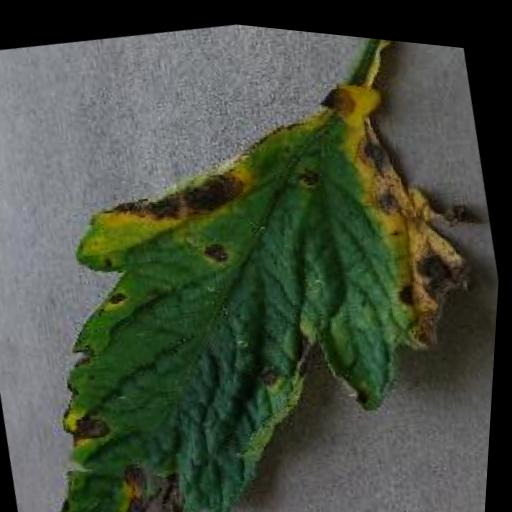Early Blight: (0, 24, 511, 512)
